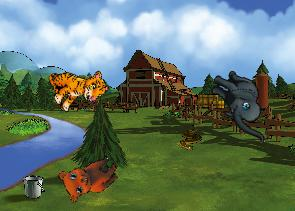bear: (53, 142, 123, 209)
elephant: (198, 65, 283, 143)
tiger: (42, 53, 111, 118)
